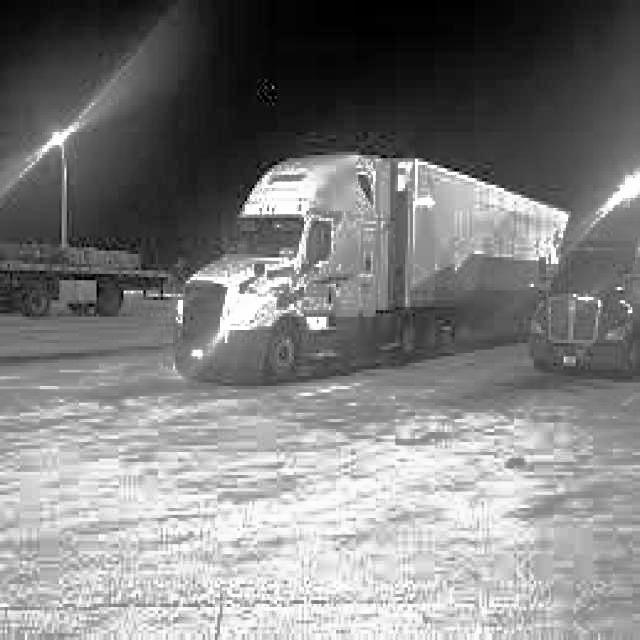Truck: (173, 149, 571, 383), (0, 238, 168, 317)
